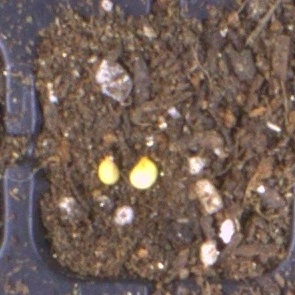chilli seed: (127, 155, 158, 190), (97, 157, 120, 185)
